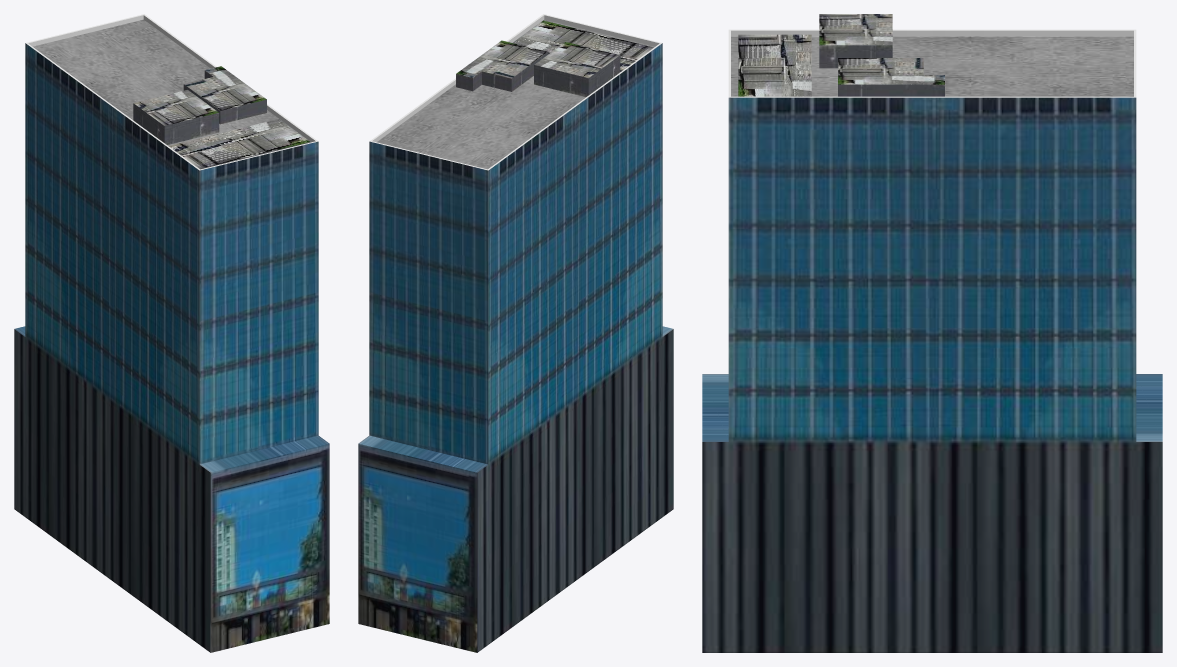
3 views of the same model, side by side, from view 1: azimuth 30°, elevation 25°; view 2: azimuth 150°, elevation 25°; view 3: azimuth 270°, elevation 25° (orthographic). The views are drawn at different scales.
Parts seen in each view (by area): view 1: HN1281___Thaiholdings_Tower; view 2: HN1281___Thaiholdings_Tower; view 3: HN1281___Thaiholdings_Tower.
Boxes of the visible parts, x1,y1,x2,y2 form: HN1281___Thaiholdings_Tower: (14, 14, 329, 652); HN1281___Thaiholdings_Tower: (358, 14, 673, 652); HN1281___Thaiholdings_Tower: (702, 14, 1162, 652).
Size of the model in its own units: 28 by 110 by 80.
Materials: 1 (1 with a texture image).
